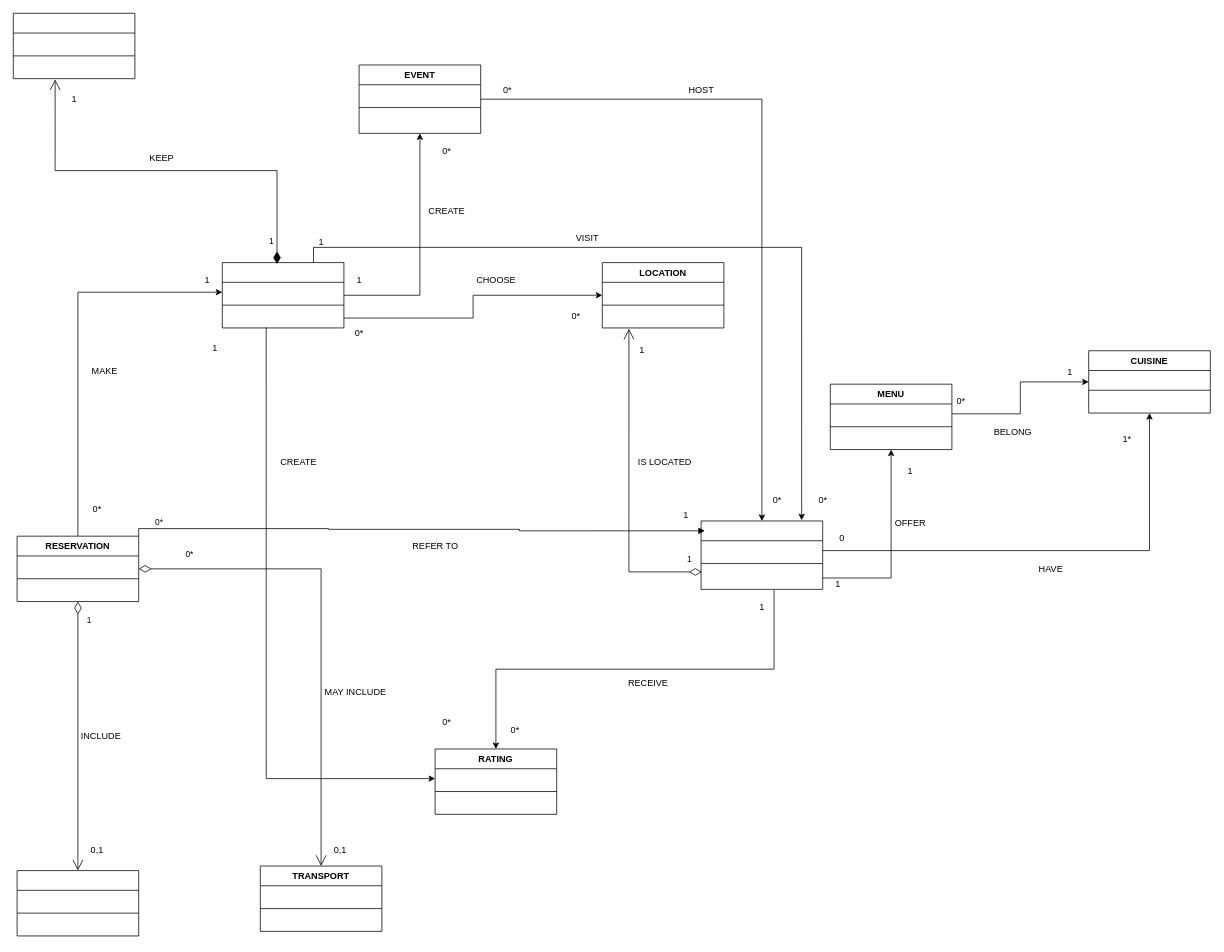
This 1224x952 diagram has some shape labels left out. Here are the shapes that lost their labels. From the top down, the box of each, then its label:
(13, 13, 135, 79): RECORDS
(222, 262, 344, 328): USER
(700, 520, 823, 589): RESTAURANT
(16, 870, 139, 936): PAYMENT
